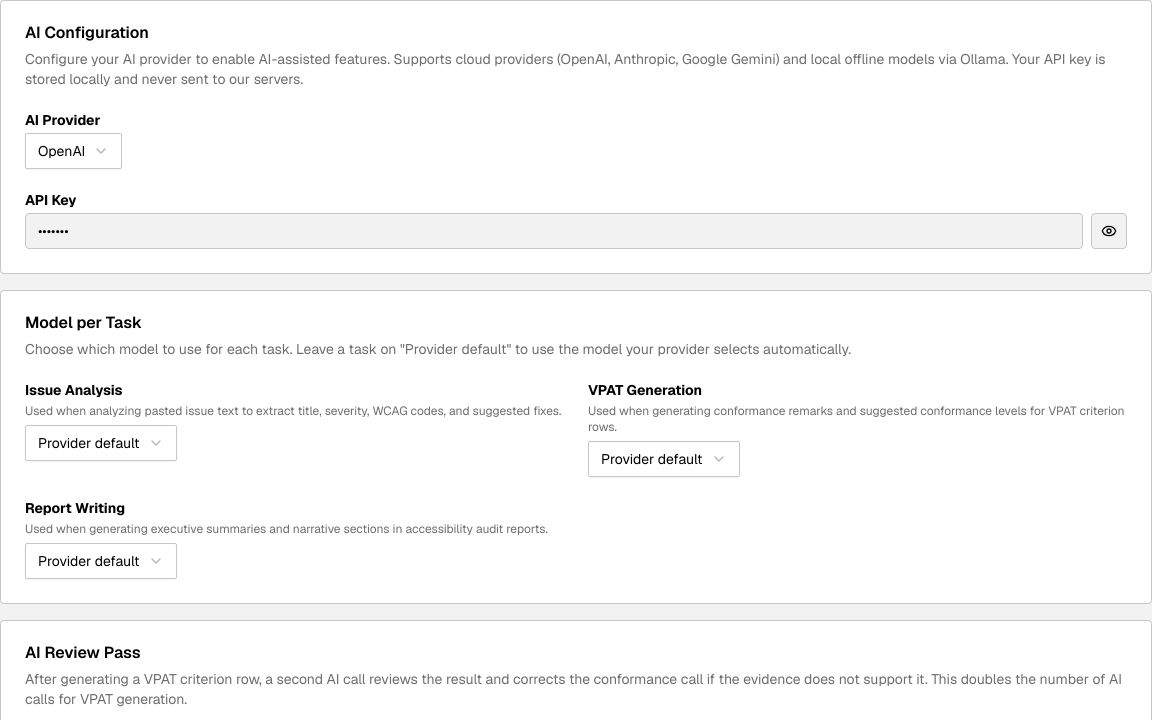
Test: AIConfigSection — API key visibility toggle › toggles API key visibility when eye button is clicked
This screenshot has width=1152, height=720.
Click the button named "show api key" at (1109, 231), box [1091, 213, 1127, 249]
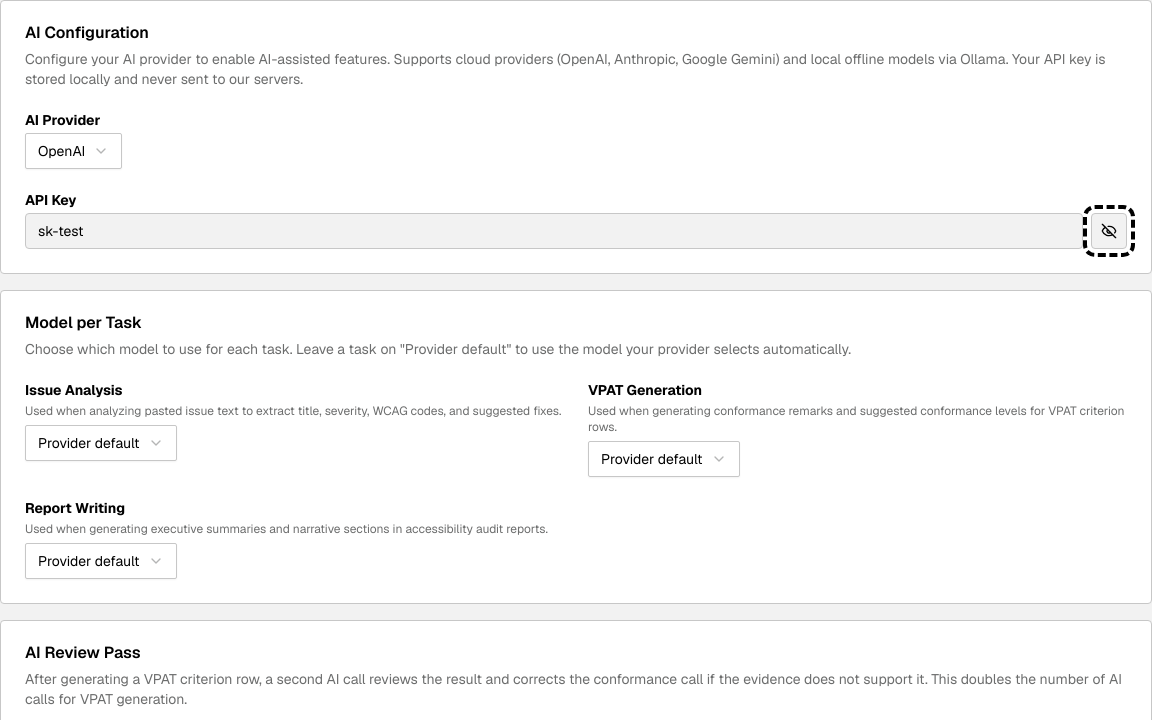
Expected: the field with placeholder "sk-..." shows its text, [25, 213, 1083, 249]
Click the button named "hide api key" at (1109, 231), box [1091, 213, 1127, 249]
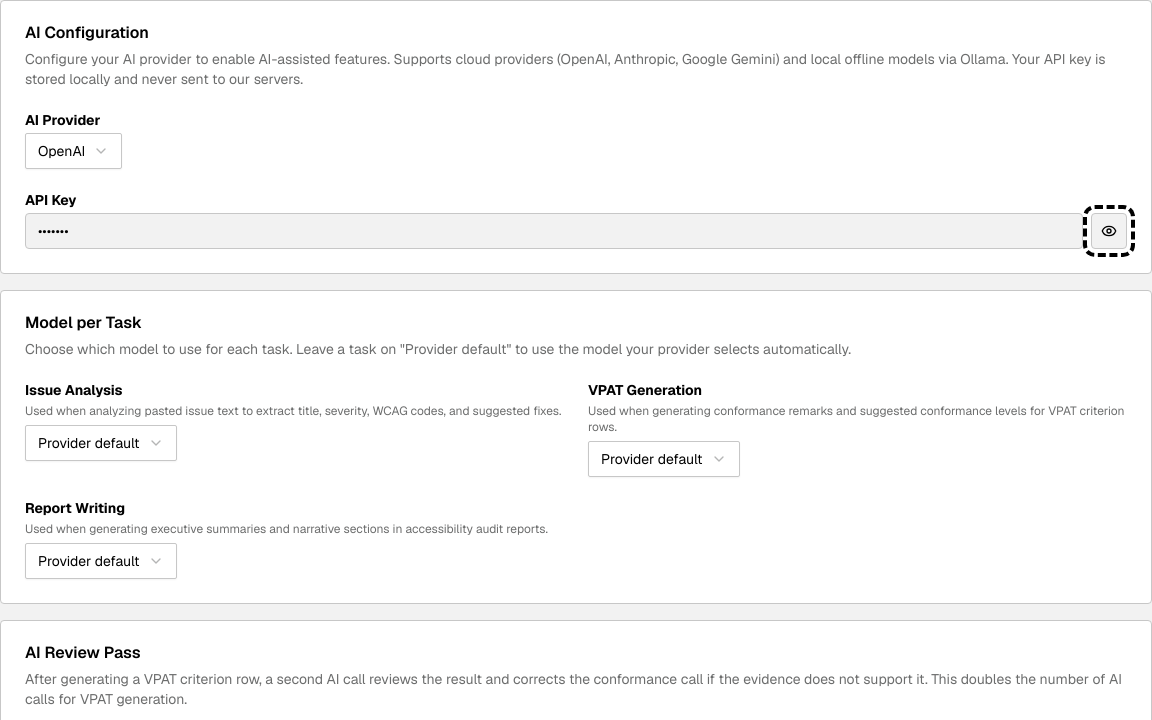
Expected: the password field with placeholder "sk-..." hides its text, [25, 213, 1083, 249]
